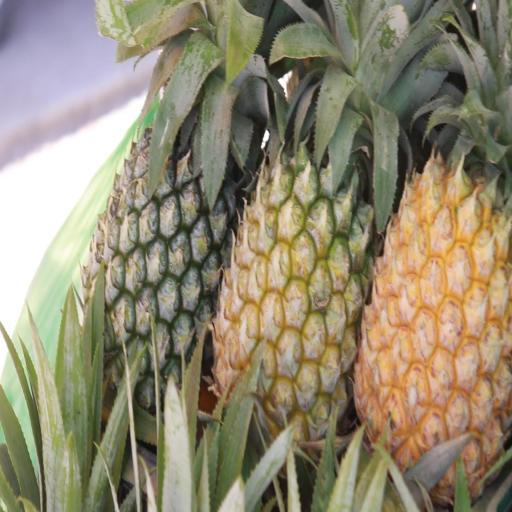------------------------------: (210, 0, 379, 456)
Pineapple - v8 v1: (351, 0, 512, 480)
